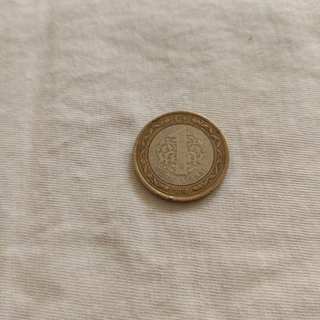1TL: (129, 109, 231, 206)
